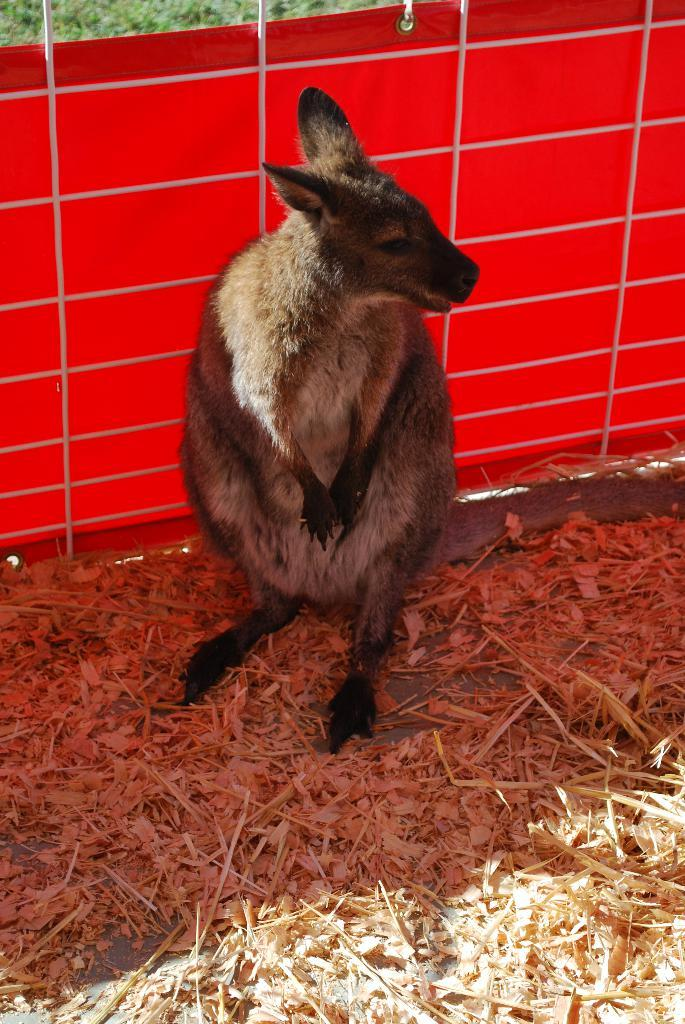kangaroo: (170, 92, 485, 753)
